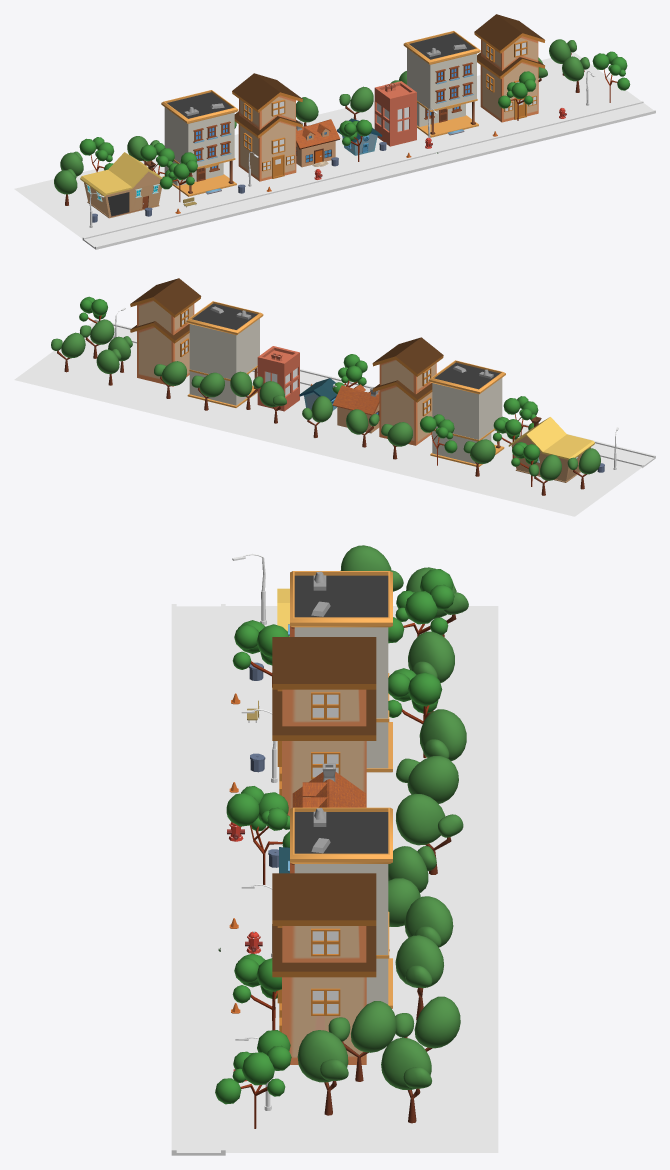
File: Bg2 Houses.fbx
3 views of the same model, one above another, from view 1: azimuth 30°, elevation 25°; view 2: azimuth 150°, elevation 25°; view 3: azimuth 270°, elevation 25° (orthographic). The views are drawn at different scales.
Parts seen in each view (by area): view 1: Vert.020; view 2: Vert.020; view 3: Vert.020.
Boxes of the visible parts, x1=… form: Vert.020: x1=14, y1=14, x2=655, y2=249; Vert.020: x1=14, y1=278, x2=655, y2=516; Vert.020: x1=171, y1=545, x2=498, y2=1155.
Bounding box in the file's own units: 1053 × 636 × 4177.
Materials: 43 (7 with a texture image).
